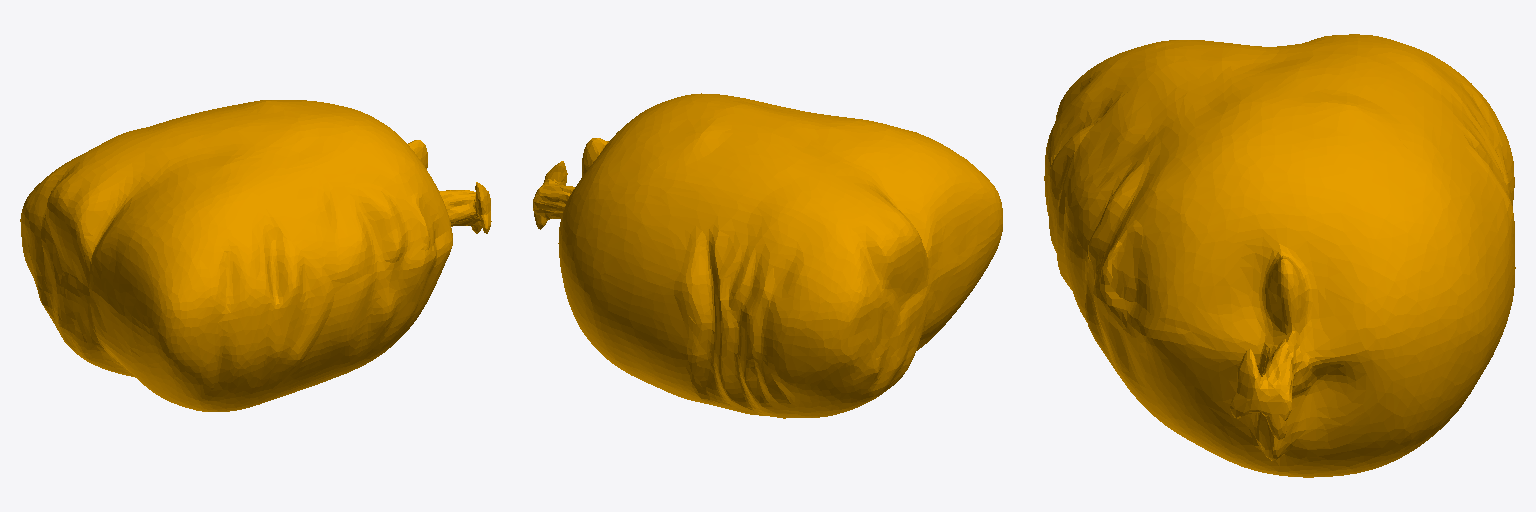
URDF robot description (sample):
<?xml version='1.0' encoding='utf-8'?>
<robot name="sample">
    <link name="sample">
        <visual>
            <origin xyz="0 0 0" rpy="1.5708 0.0 0.0" />
            <geometry>
                <mesh filename="mesh/sample.obj" scale="1.0 1.0 1.0" />
            </geometry>
        </visual>
        <collision>
            <origin xyz="0 0 0" rpy="1.5708 0.0 0.0" />
            <geometry>
                <mesh filename="mesh/sample_collision.obj" scale="1.0 1.0 1.0" />
            </geometry>
            <gazebo>
                <mu1>0.80</mu1> 
                <mu2>0.60</mu2> 
            </gazebo>
        </collision>
        <inertial>
            <mass value="1.0000" />
            <origin xyz="0 0 0" />
            <inertia ixx="1.0" ixy="0.0" ixz="0.0" iyy="1.0" iyz="0.0" izz="1.0" />
        </inertial>
        <extra_info>
            <scale>0.095000</scale>
            <version>v0.1.7</version>
            <category>toy</category>
            <description>toy</description>
            <min_height>0.05</min_height>
            <max_height>0.07</max_height>
            <real_height>0.060</real_height>
            <min_mass>0.05</min_mass>
            <max_mass>0.15</max_mass>
            <color>unknown</color>
            <rgba>[0.5, 0.5, 0.5, 1.0]</rgba>
            <generate_time>20260813174537</generate_time>
            <gs_model>""</gs_model>
        </extra_info>
    </link>
</robot>

--- Render facts (derived) ---
Views: 3 orthographic renders of the robot side by side, from view 1: azimuth 30°, elevation 25°; view 2: azimuth 150°, elevation 25°; view 3: azimuth 270°, elevation 25°.
Robot: sample — 1 links, 0 joints (none); root link sample; default pose: all joints at 0.
Links seen in each view (by area): view 1: sample; view 2: sample; view 3: sample.
Boxes of the visible links, left/top/right/bottom form: sample: left=20, top=100, right=491, bottom=411; sample: left=533, top=93, right=1002, bottom=418; sample: left=1044, top=34, right=1515, bottom=477.
Bounding box of the posed robot: 0.095 × 0.073 × 0.06 m (x, y, z).
1 mesh visuals loaded from 1 distinct referenced files (1 OBJ).
